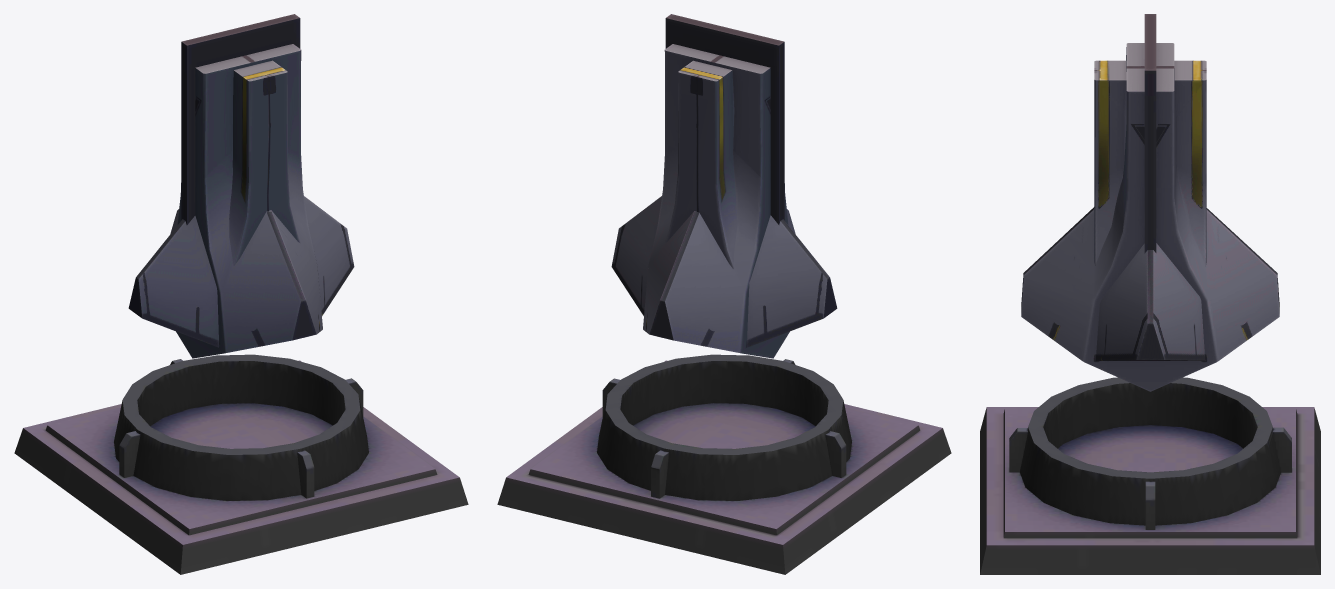
File: Trap_778_giatow.fbx
3 views of the same model, side by side, from view 1: azimuth 30°, elevation 25°; view 2: azimuth 150°, elevation 25°; view 3: azimuth 270°, elevation 25° (orthographic). The views are drawn at different scales.
Parts seen in each view (by area): view 1: base, tower; view 2: base, tower; view 3: base, tower.
Boxes of the visible parts, x1,y1,x2,y2 form: base: (14,354,468,574); tower: (128,14,354,358); base: (497,354,951,574); tower: (611,14,837,358); base: (980,377,1320,574); tower: (1021,14,1279,391).
Bounding box in the file's own units: 0.7975 × 1.19 × 0.7975.
Materials: 1 (1 with a texture image).
